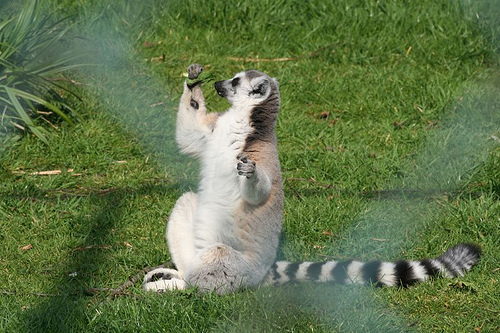cat: (139, 60, 485, 299)
